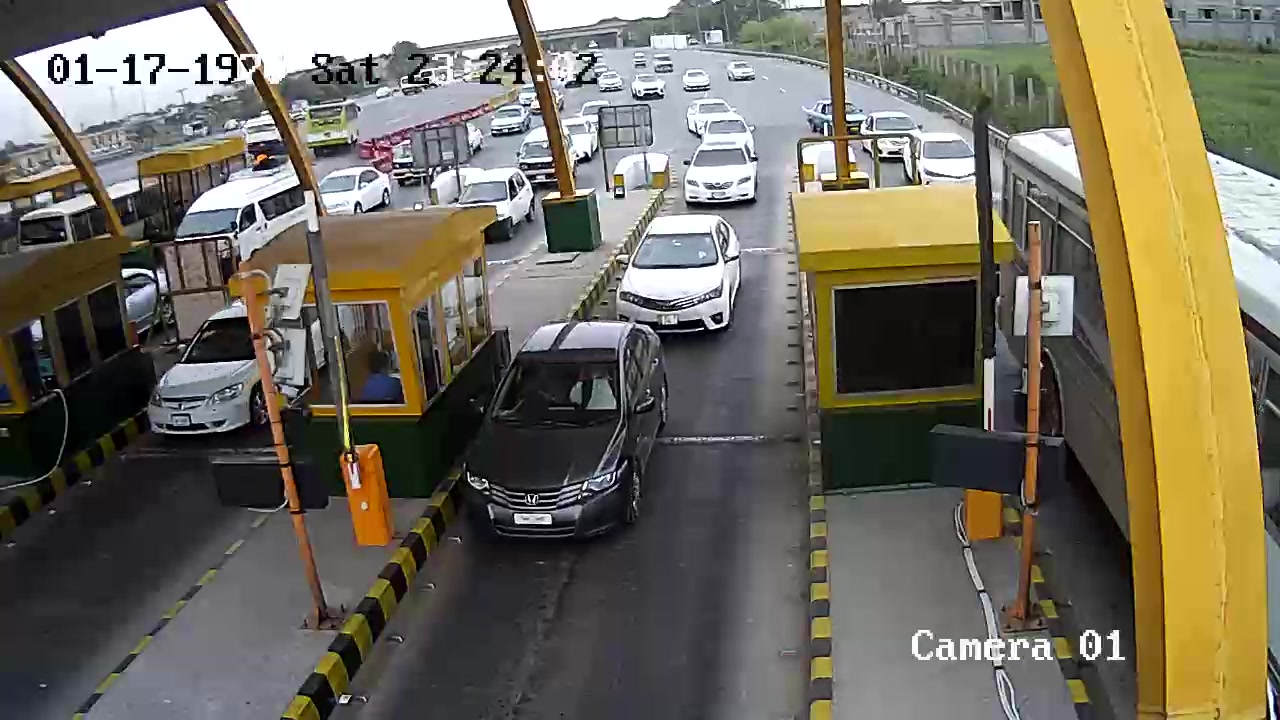F1: (460, 314, 670, 541), (615, 215, 749, 347)
